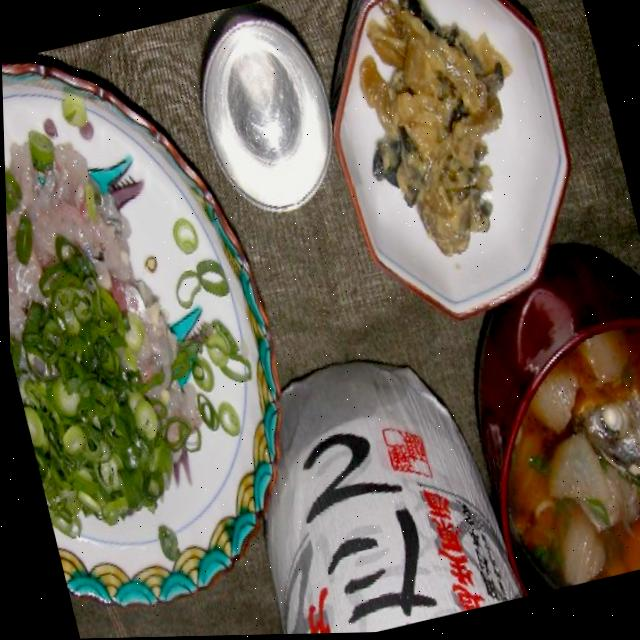汤锅炖物: (451, 311, 640, 602)
熟制海鲜: (1, 28, 290, 594)
